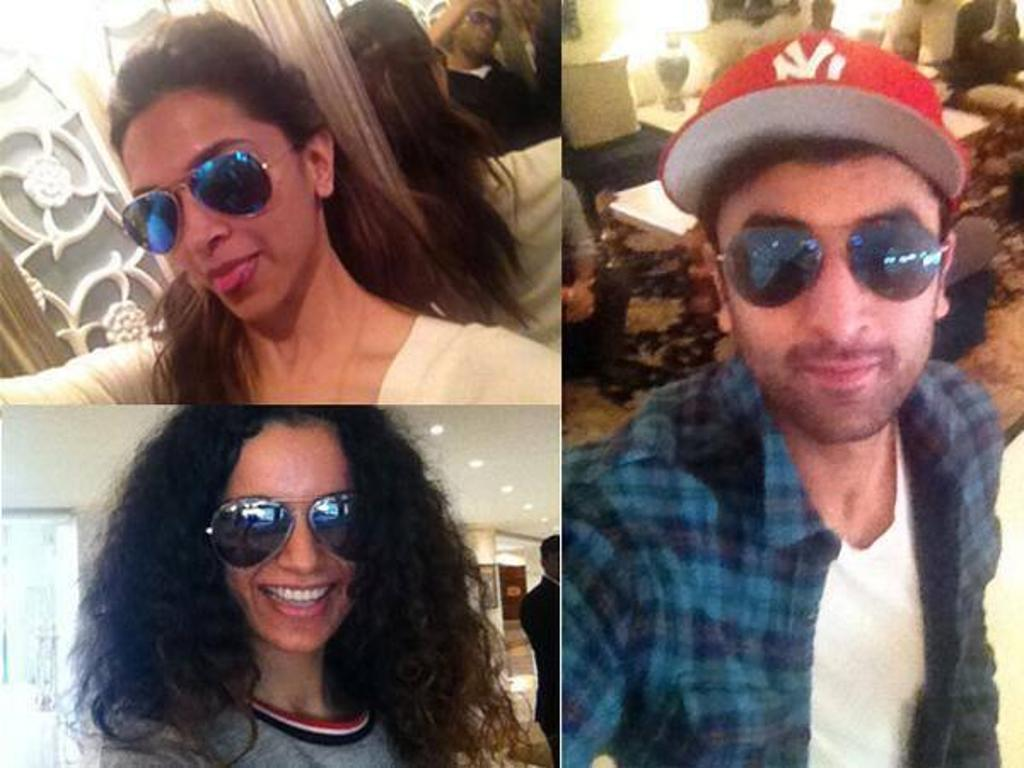face: (714, 161, 946, 442), (123, 94, 306, 322), (206, 434, 372, 655), (463, 4, 498, 54), (548, 551, 566, 578), (819, 8, 832, 26)
